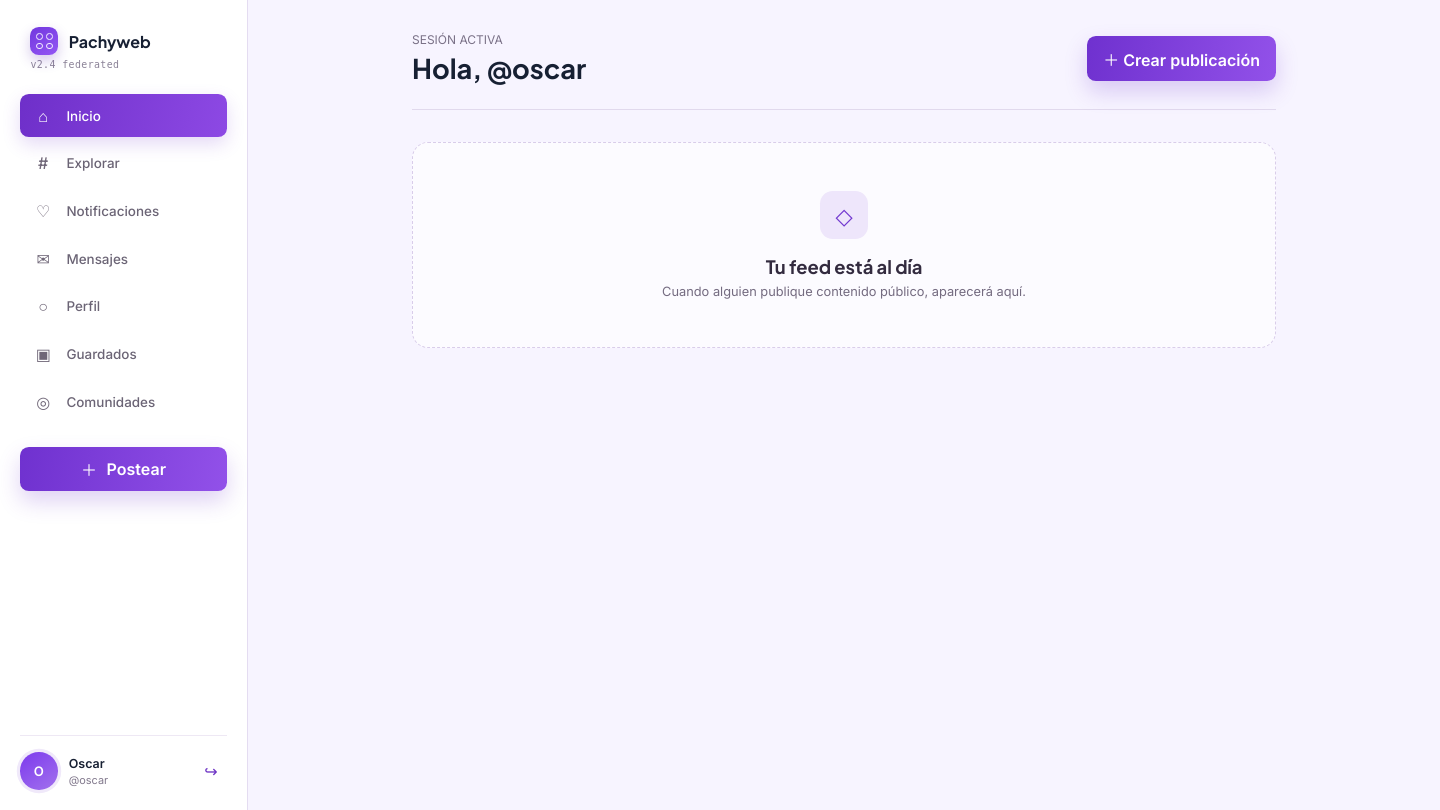
Test: inicio de sesión › sincroniza la suscripción concedida y la desconecta al cerrar sesión
Click the button named "Cerrar sesión" at x=211, y=771, box [195,755,227,787]
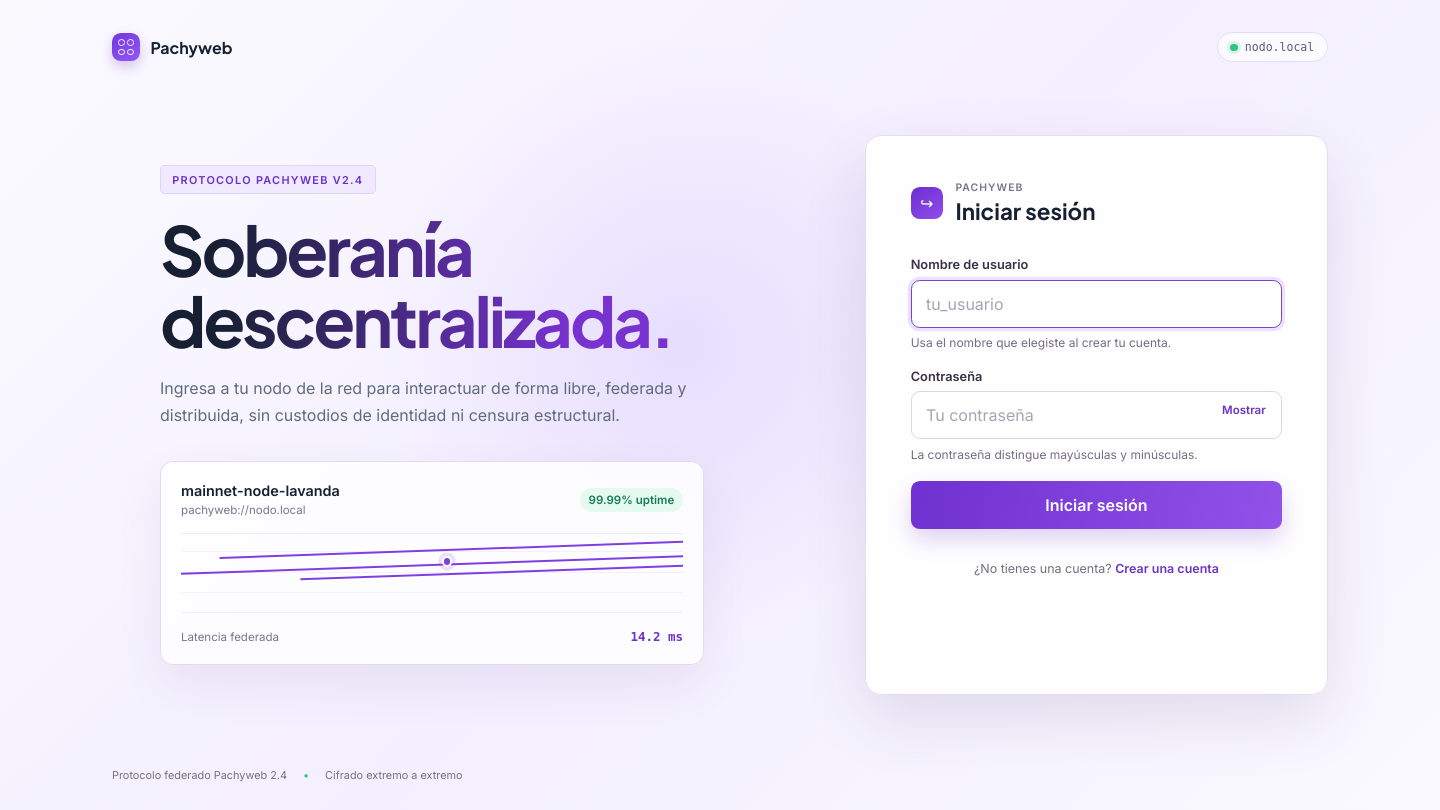
Expected: the heading "Iniciar sesión" is shown, [956,197,1096,225]
